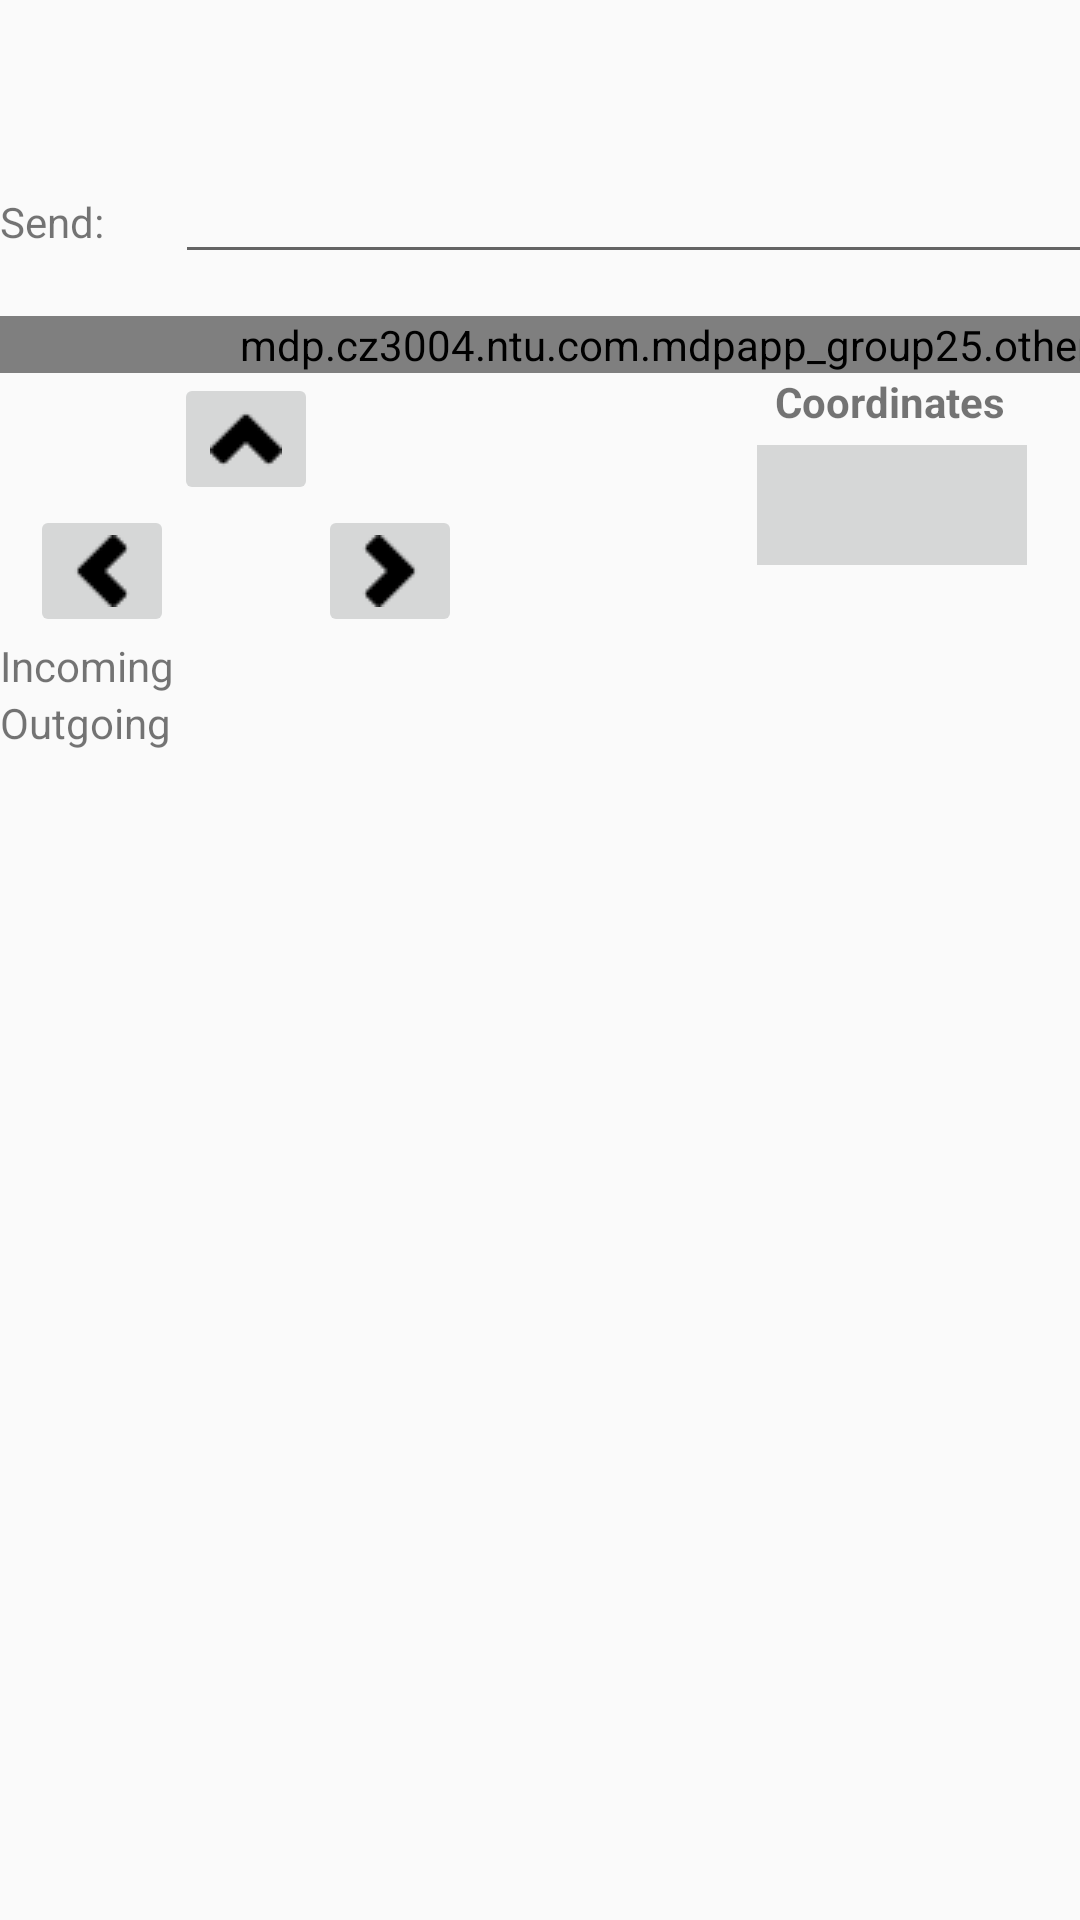

Screen size 1080x1920. Icon name, then its box in pixels as bbox=[x1, y1, x2, y2]:
left arrow: bbox=[42, 523, 162, 619]
right arrow: bbox=[330, 523, 450, 619]
up arrow: bbox=[186, 391, 306, 487]
